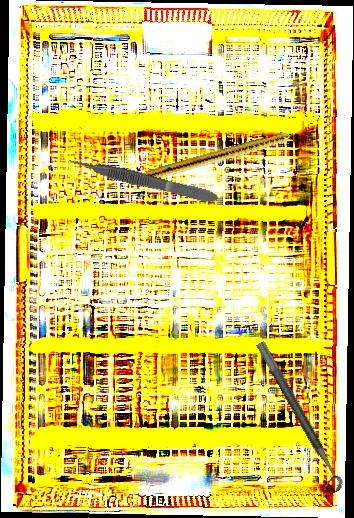Fixation Ring: (243, 340, 346, 499)
Handpiece: (145, 125, 309, 185)
Tissue Forceps: (67, 152, 220, 207)
